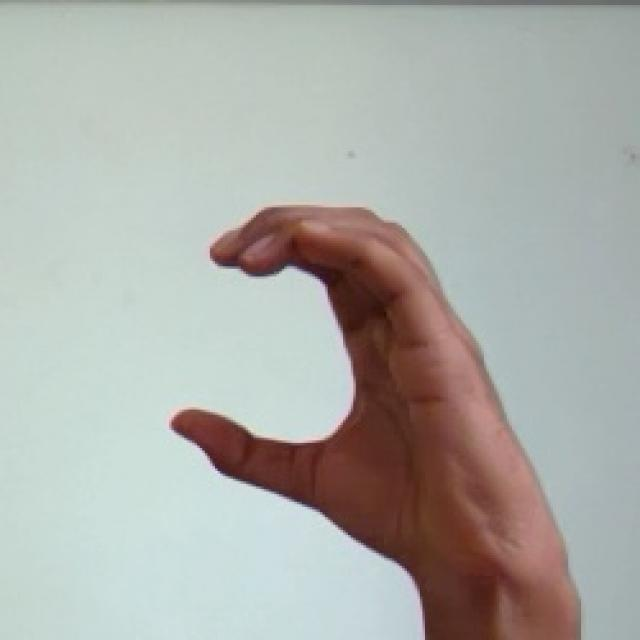Alphabet-C: (0, 4, 640, 640), (172, 207, 581, 640)
